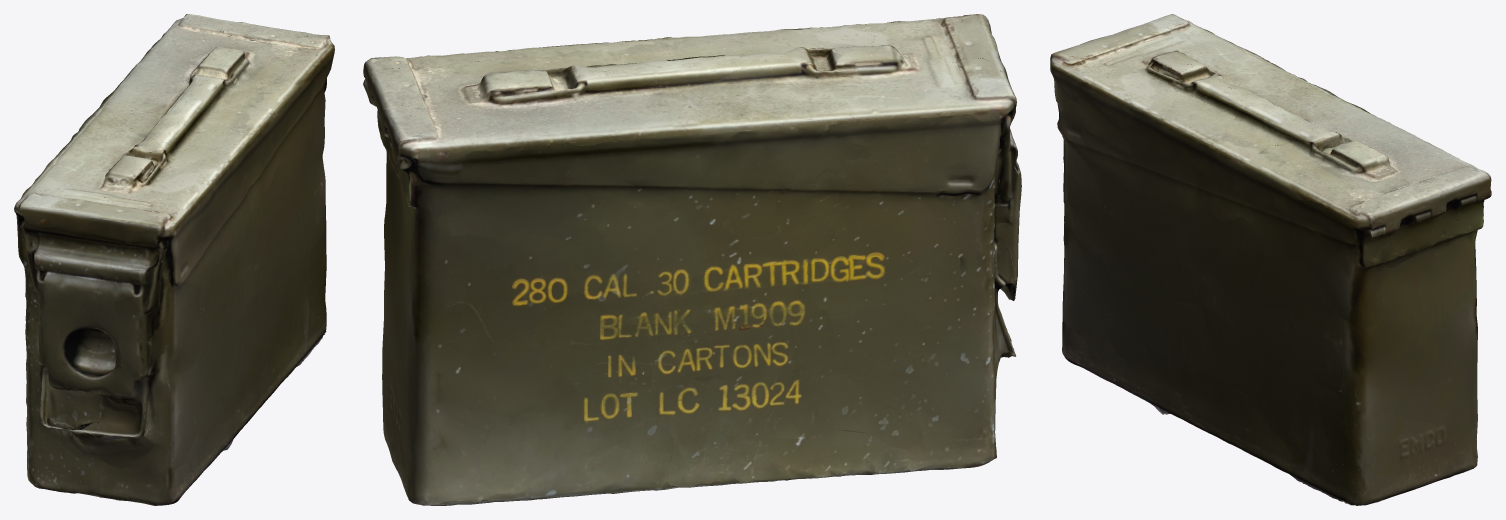
File: ammo_box.glb
3 views of the same model, side by side, from view 1: azimuth 30°, elevation 25°; view 2: azimuth 150°, elevation 25°; view 3: azimuth 270°, elevation 25° (orthographic). The views are drawn at different scales.
Parts seen in each view (by area): view 1: Object_3; view 2: Object_3; view 3: Object_3.
Part boxes in pixels (x1,y1,x2,y2): Object_3: [14, 14, 334, 505]; Object_3: [363, 14, 1021, 505]; Object_3: [1050, 14, 1491, 505].
Bounding box in the file's own units: 1.41 × 0.9964 × 1.29.
Materials: 1 (1 with a texture image).
